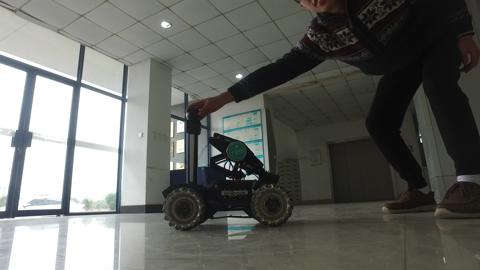chariot: (150, 103, 305, 233)
